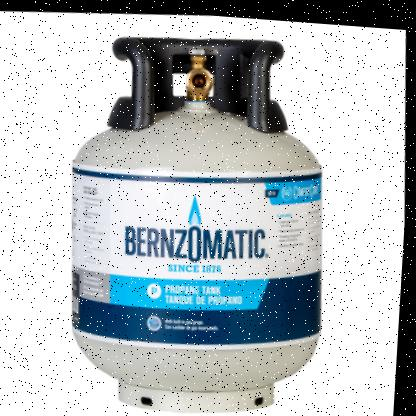gas-tank: (34, 3, 363, 415)
